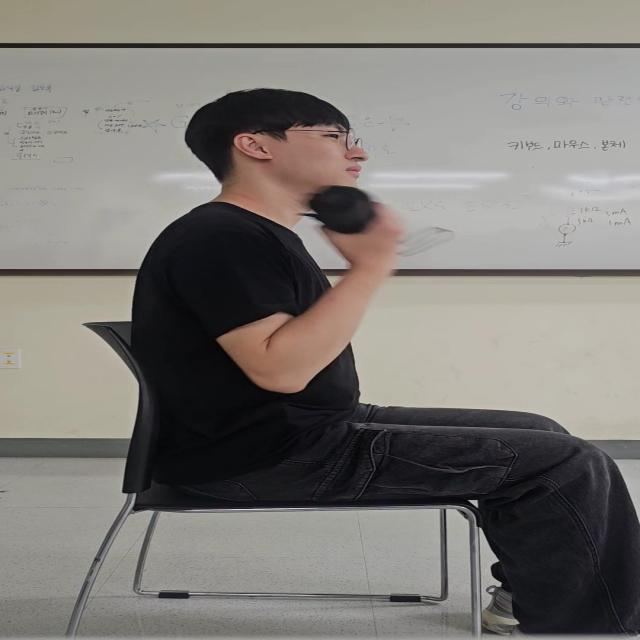curl: (168, 194, 418, 406)
